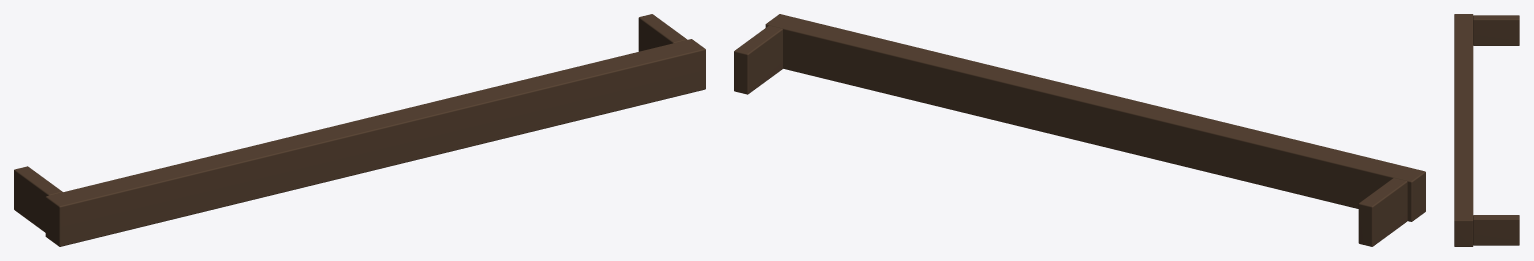
The model's file is eurofit-h-022-224orb.glb.
3 views of the same model, side by side, from view 1: azimuth 30°, elevation 25°; view 2: azimuth 150°, elevation 25°; view 3: azimuth 270°, elevation 25° (orthographic). The views are drawn at different scales.
Visible parts, largest first — view 1: Rectangular grip, Mounting standoff, Mounting standoff.001; view 2: Rectangular grip, Mounting standoff, Mounting standoff.001; view 3: Rectangular grip, Mounting standoff, Mounting standoff.001.
Part boxes in pixels (bbox=[...]): Rectangular grip: bbox=[45, 39, 705, 246]; Mounting standoff: bbox=[14, 166, 62, 232]; Mounting standoff.001: bbox=[638, 14, 687, 51]; Rectangular grip: bbox=[765, 14, 1425, 221]; Mounting standoff: bbox=[1358, 178, 1407, 246]; Mounting standoff.001: bbox=[734, 25, 782, 94]; Rectangular grip: bbox=[1454, 14, 1473, 246]; Mounting standoff: bbox=[1473, 15, 1519, 45]; Mounting standoff.001: bbox=[1473, 215, 1519, 245].
Size of the model in its own units: 0.232 by 0.014 by 0.031.
